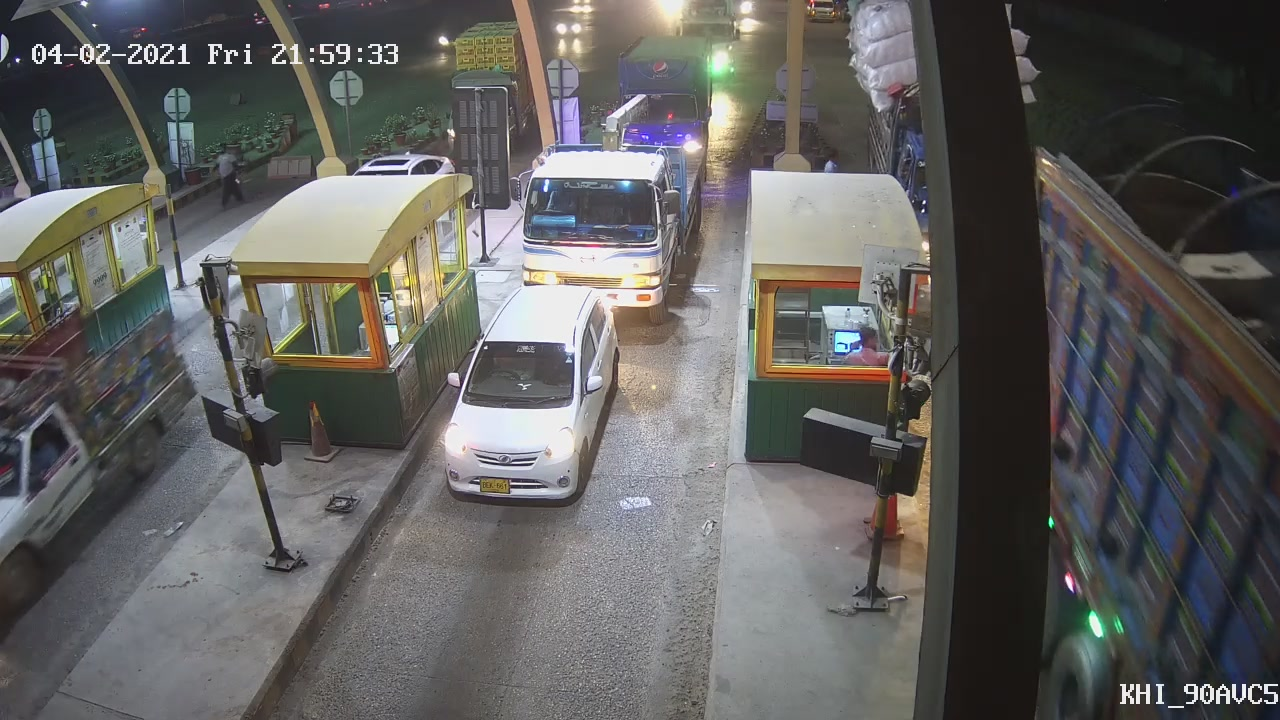F1: (436, 282, 625, 506)
F5: (514, 74, 719, 315)
